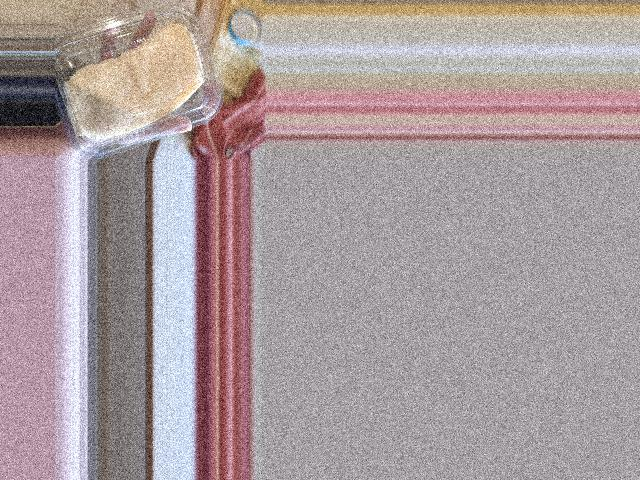cheese: (53, 9, 225, 148)
